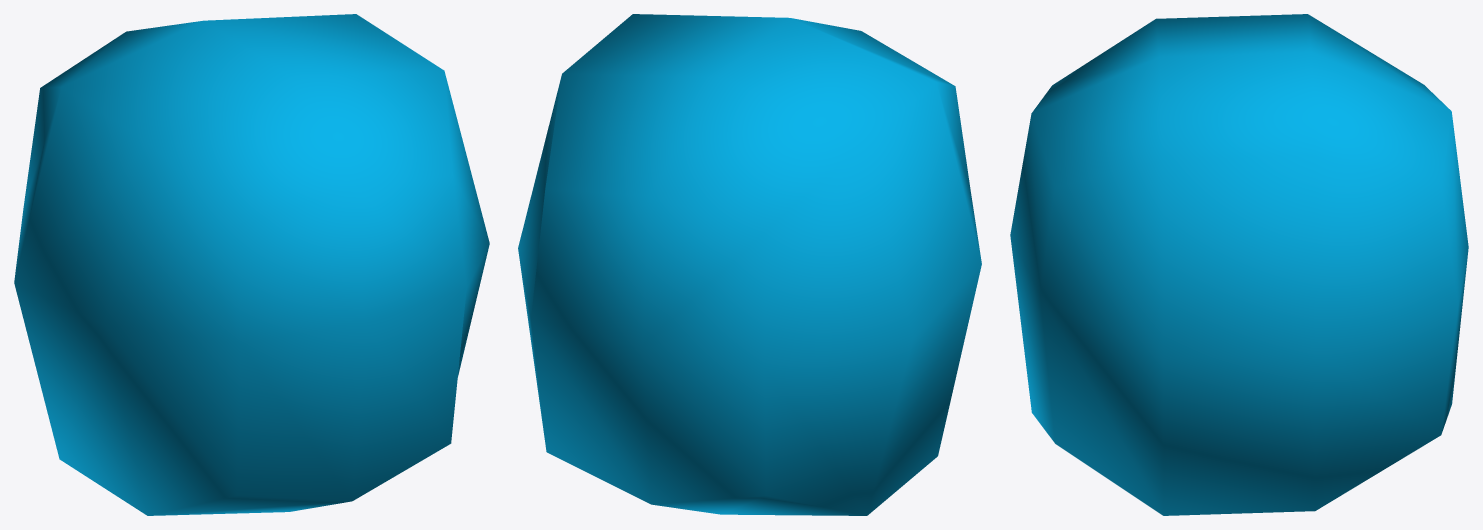
File: Apple.fbx
The picture shows the model from 3 angles, left to right: view 1: azimuth 30°, elevation 25°; view 2: azimuth 150°, elevation 25°; view 3: azimuth 270°, elevation 25°; orthographic projection. The views are drawn at different scales.
Parts seen in each view (by area): view 1: Apple; view 2: Apple; view 3: Apple.
Boxes of the visible parts, bbox=[...] form: Apple: bbox=[14, 14, 489, 515]; Apple: bbox=[518, 14, 981, 515]; Apple: bbox=[1010, 14, 1468, 515].
Size of the model in its own units: 21.45 by 22.28 by 22.21.
